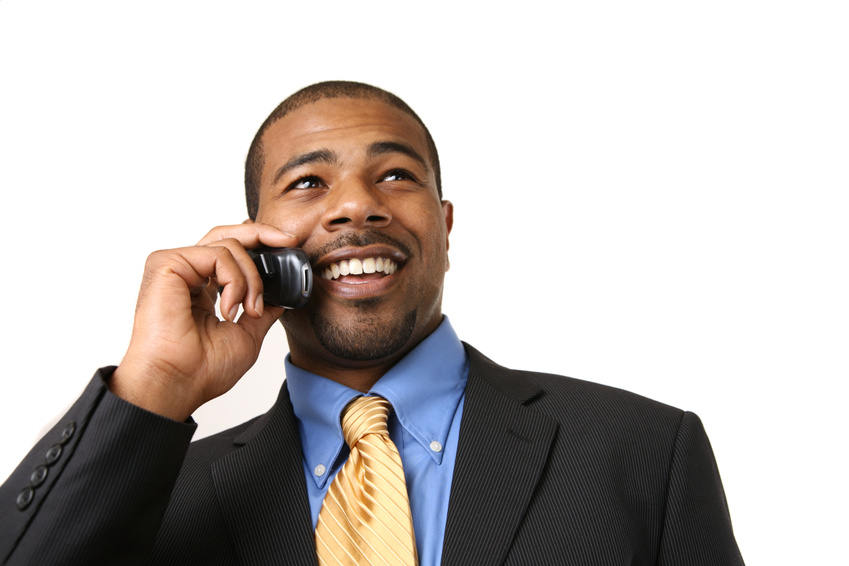phone: (229, 236, 313, 312)
talk: (130, 130, 449, 395)
